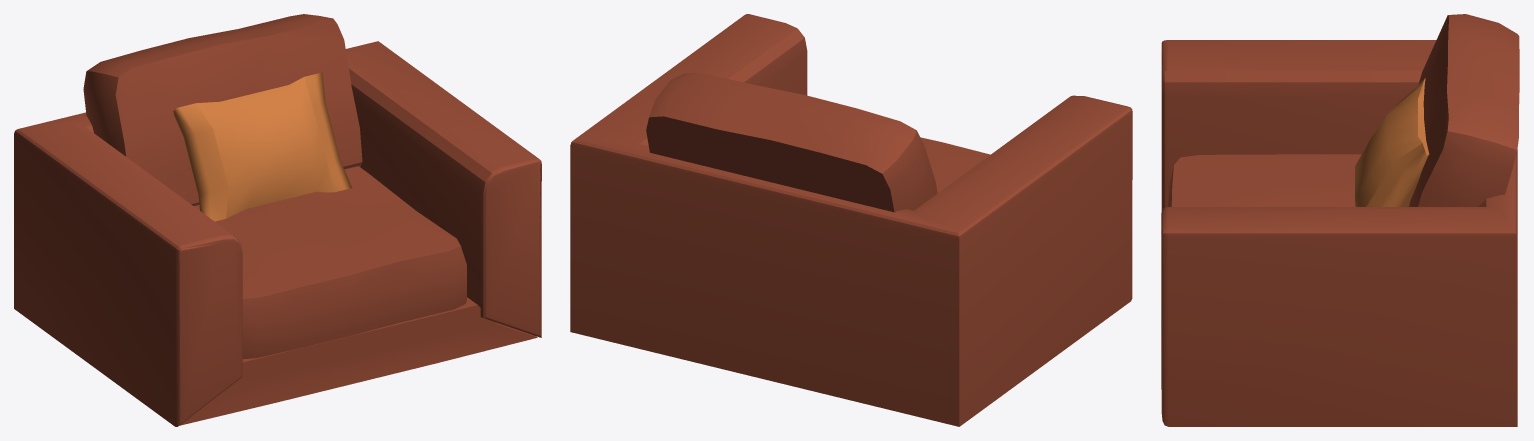
The model's file is CEO_Sofa.fbx.
The picture shows the model from 3 angles, left to right: view 1: azimuth 30°, elevation 25°; view 2: azimuth 150°, elevation 25°; view 3: azimuth 270°, elevation 25°; orthographic projection. The views are drawn at different scales.
Visible parts, largest first — view 1: CEO_Sofa1; view 2: CEO_Sofa1; view 3: CEO_Sofa1.
Boxes of the visible parts, bbox=[...] form: CEO_Sofa1: bbox=[14, 14, 541, 426]; CEO_Sofa1: bbox=[570, 14, 1132, 426]; CEO_Sofa1: bbox=[1161, 14, 1519, 426].
Bounding box in the file's own units: 145 × 92.74 × 114.
